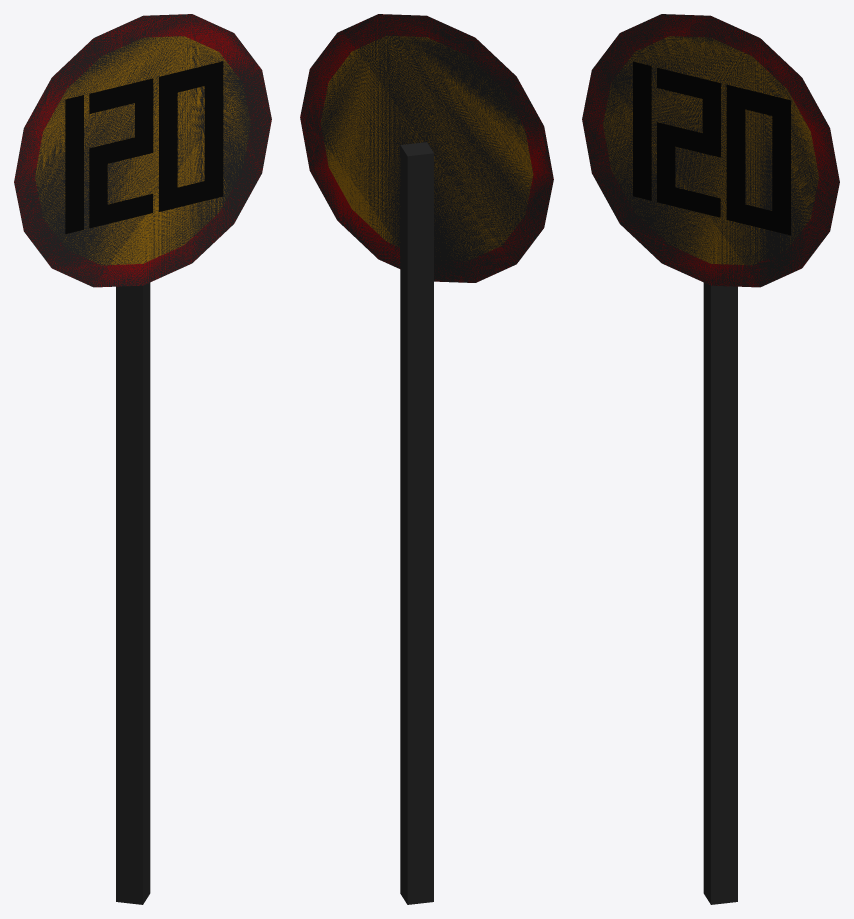
File: 120kmh.obj
The picture shows the model from 3 angles, left to right: view 1: azimuth 30°, elevation 25°; view 2: azimuth 150°, elevation 25°; view 3: azimuth 330°, elevation 25°; orthographic projection.
Parts seen in each view (by area): view 1: Cylinder.001; view 2: Cylinder.001; view 3: Cylinder.001.
Part boxes in pixels (x1,y1,x2,y2): Cylinder.001: (14, 14, 271, 904); Cylinder.001: (300, 14, 553, 904); Cylinder.001: (582, 14, 839, 904).
Size of the model in its own units: 0.8957 by 2.95 by 0.1199.
